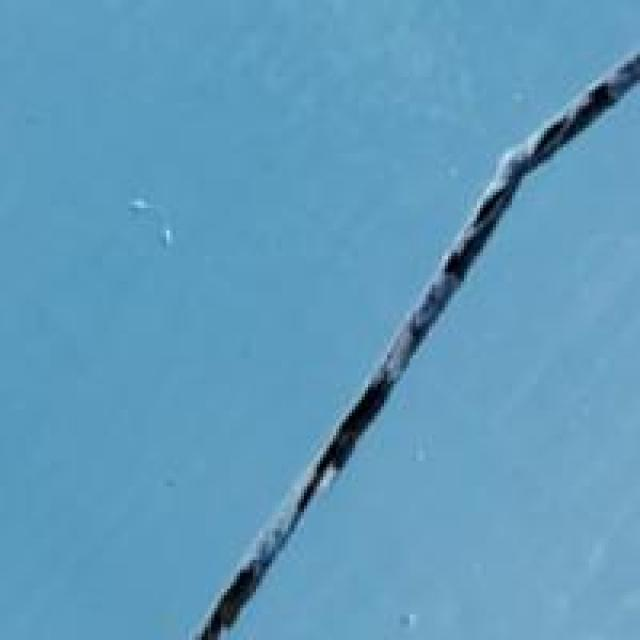crack: (189, 38, 637, 637)
